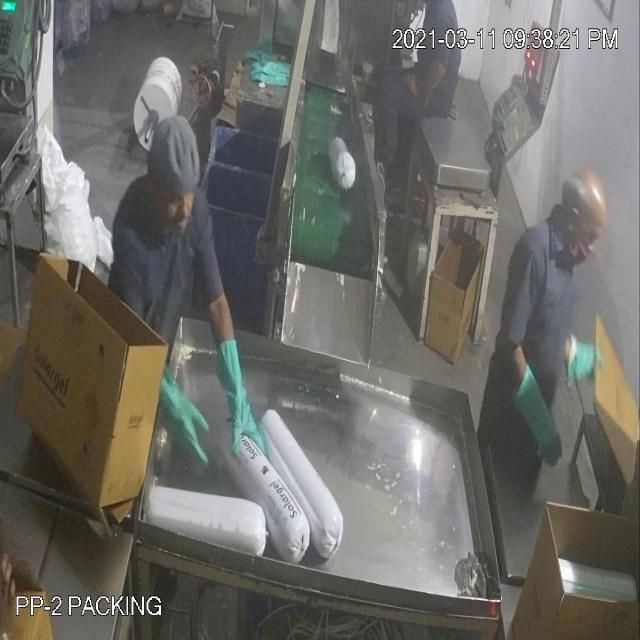gloves: (507, 351, 573, 477), (212, 325, 274, 450)
no-gloves: (402, 54, 454, 100)
